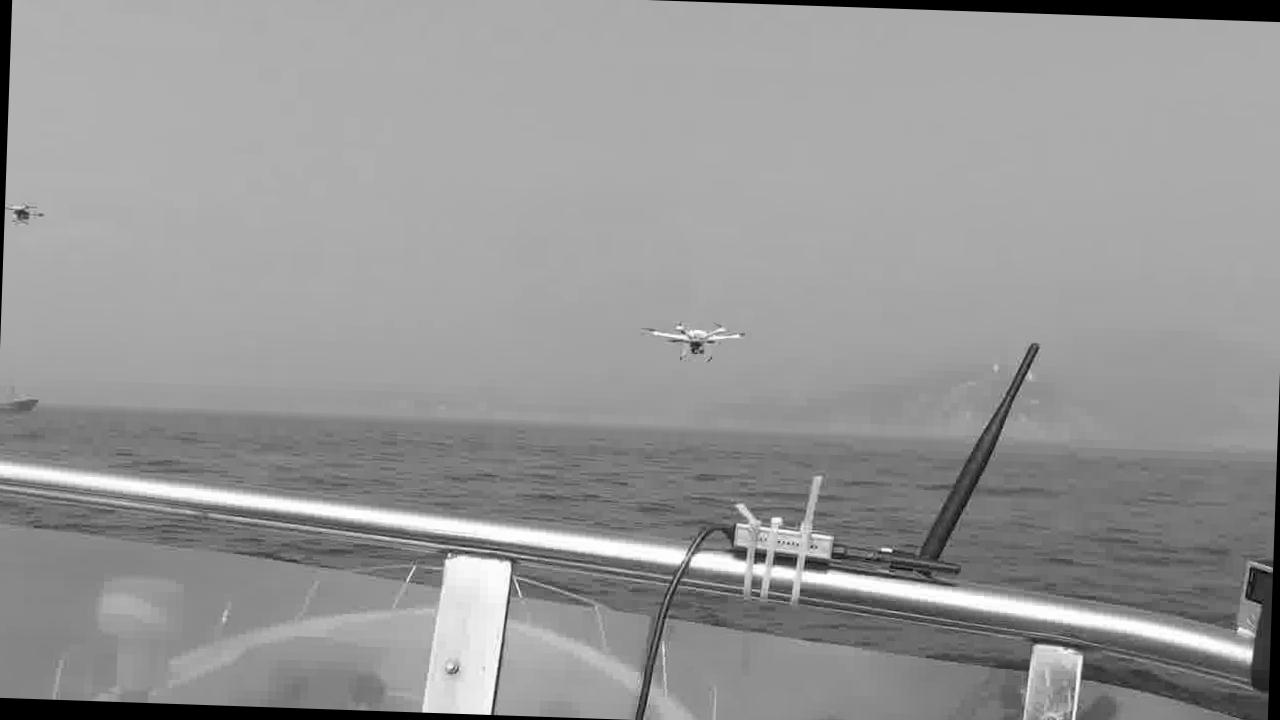drone: (639, 315, 750, 368)
